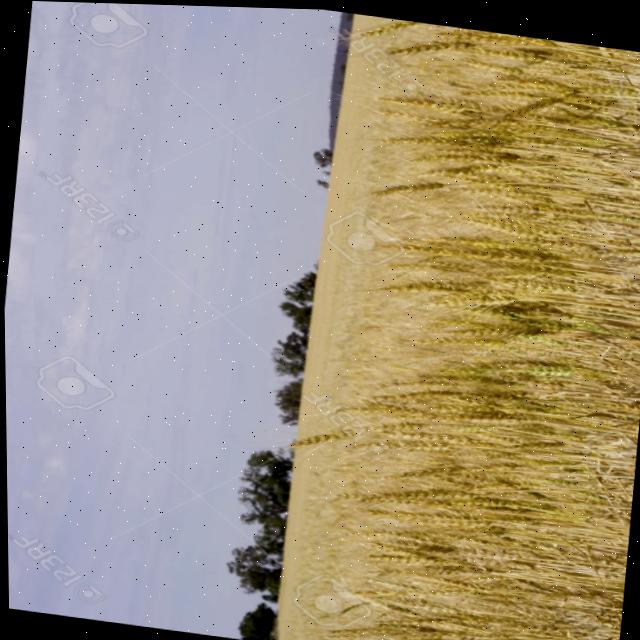healthy_wheat: (264, 6, 640, 640)
